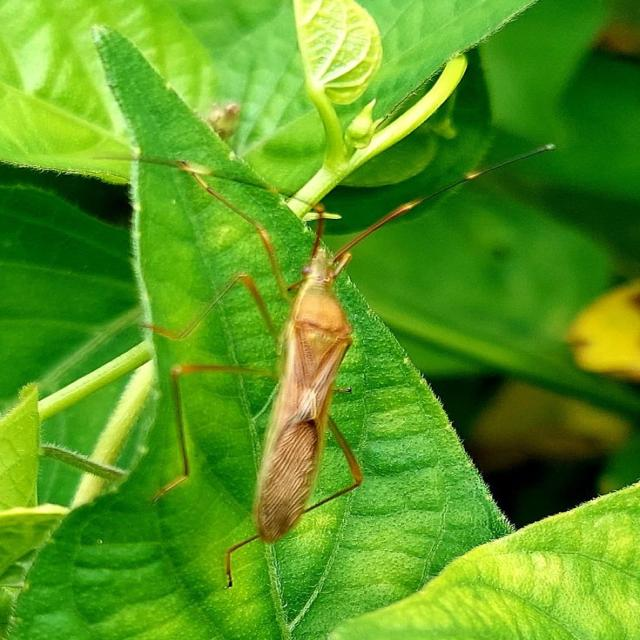ulat pada daun padi: (135, 138, 557, 590)
